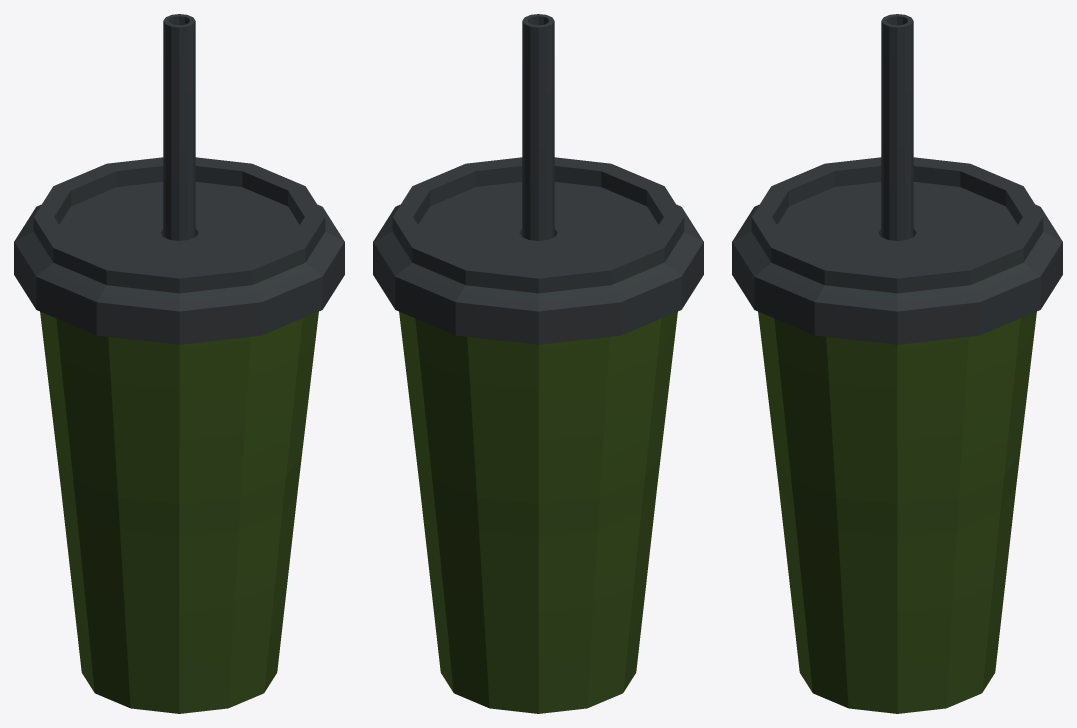
File: Cup_05.fbx
3 views of the same model, side by side, from view 1: azimuth 30°, elevation 25°; view 2: azimuth 150°, elevation 25°; view 3: azimuth 270°, elevation 25° (orthographic).
Parts seen in each view (by area): view 1: Cup_05; view 2: Cup_05; view 3: Cup_05.
Boxes of the visible parts, x1,y1,x2,y2 form: Cup_05: [14, 14, 344, 713]; Cup_05: [373, 14, 703, 713]; Cup_05: [732, 14, 1062, 713].
Size of the model in its own units: 0.1466 by 0.3188 by 0.1466.
